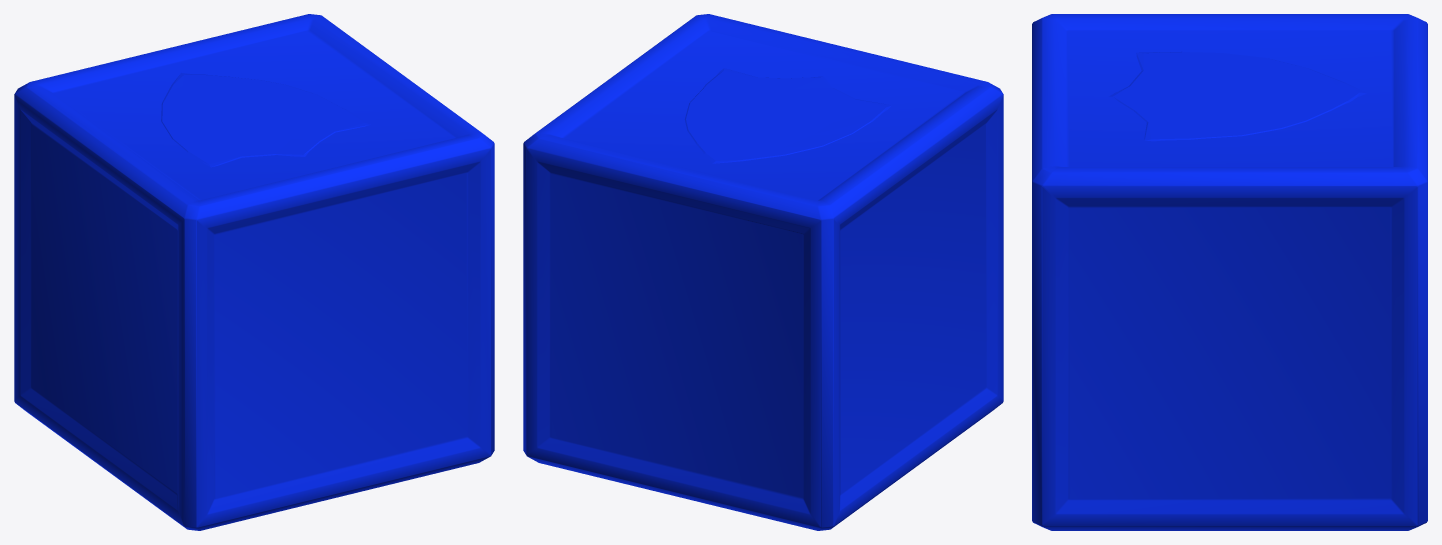
Rendered from defense.fbx.
3 renders of one model, left to right at view 1: azimuth 30°, elevation 25°; view 2: azimuth 150°, elevation 25°; view 3: azimuth 270°, elevation 25°, orthographic. The views are drawn at different scales.
Visible parts, largest first — view 1: Object002; view 2: Object002; view 3: Object002.
Part boxes in pixels (<box>): Object002: <box>14,14,494,530</box>; Object002: <box>523,14,1003,530</box>; Object002: <box>1032,14,1427,530</box>.
Bounding box in the file's own units: 80 × 80 × 80.
